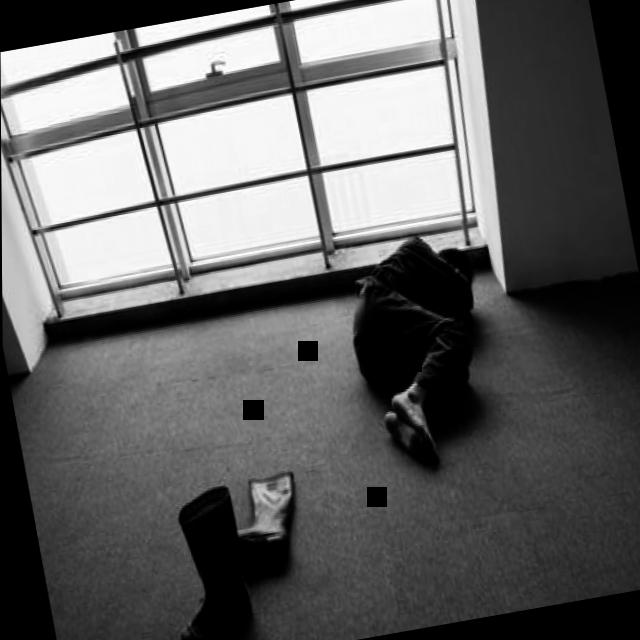Fall-Detected: (327, 216, 520, 477)
